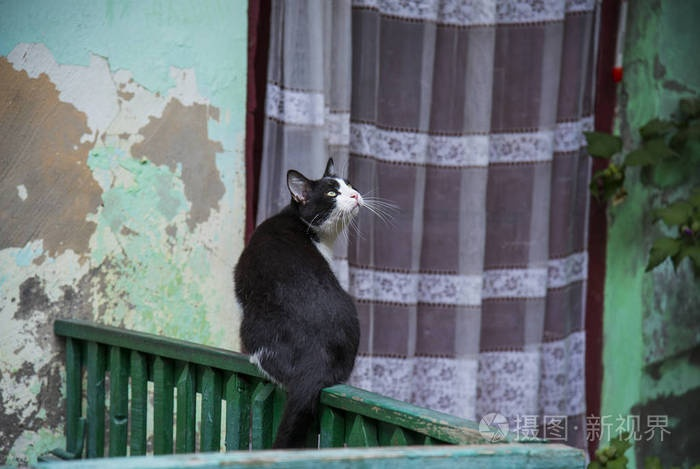cat: (235, 157, 397, 450)
